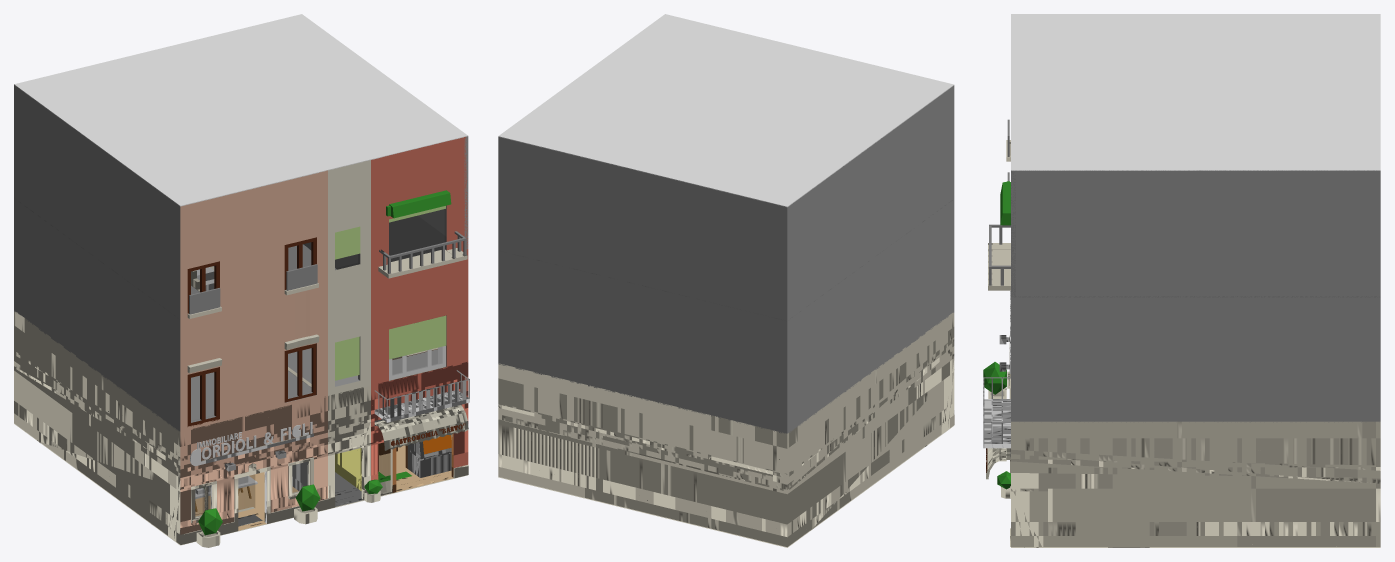
Rendered from Baeto2.fbx.
3 views of the same model, side by side, from view 1: azimuth 30°, elevation 25°; view 2: azimuth 150°, elevation 25°; view 3: azimuth 270°, elevation 25° (orthographic). The views are drawn at different scales.
Visible parts, largest first — view 1: Soffitto, Paimento, soffitto4, 3_piano, Paimento_1; view 2: Soffitto, Paimento, soffitto4; view 3: Soffitto, soffitto4, Paimento, 3_piano, Platonico_1.
Part boxes in pixels (x1=…): Soffitto: x1=14, y1=85, x2=468, y2=432; Paimento: x1=14, y1=244, x2=469, y2=545; soffitto4: x1=14, y1=14, x2=467, y2=206; 3_piano: x1=180, y1=137, x2=468, y2=426; Paimento_1: x1=196, y1=507, x2=317, y2=547; Soffitto: x1=498, y1=85, x2=954, y2=433; Paimento: x1=498, y1=312, x2=954, y2=547; soffitto4: x1=498, y1=14, x2=953, y2=207; Soffitto: x1=1011, y1=170, x2=1380, y2=422; soffitto4: x1=1011, y1=14, x2=1380, y2=170; Paimento: x1=983, y1=335, x2=1380, y2=547; 3_piano: x1=988, y1=119, x2=1010, y2=290; Platonico_1: x1=983, y1=362, x2=1006, y2=394.
Bounding box in the file's own units: 800 × 902 × 860.
